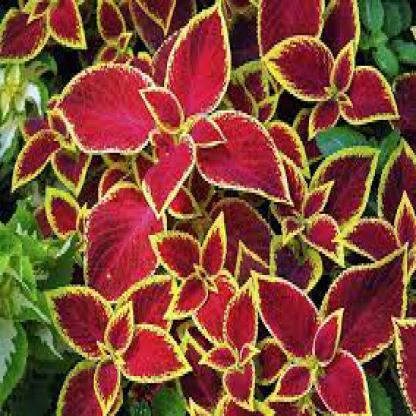Bunga Coleus: (20, 10, 399, 363)
